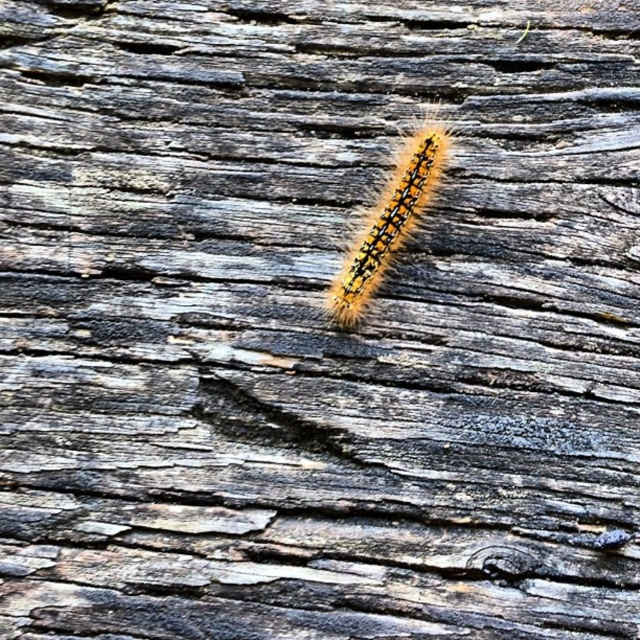Centipede: (306, 101, 470, 342)
